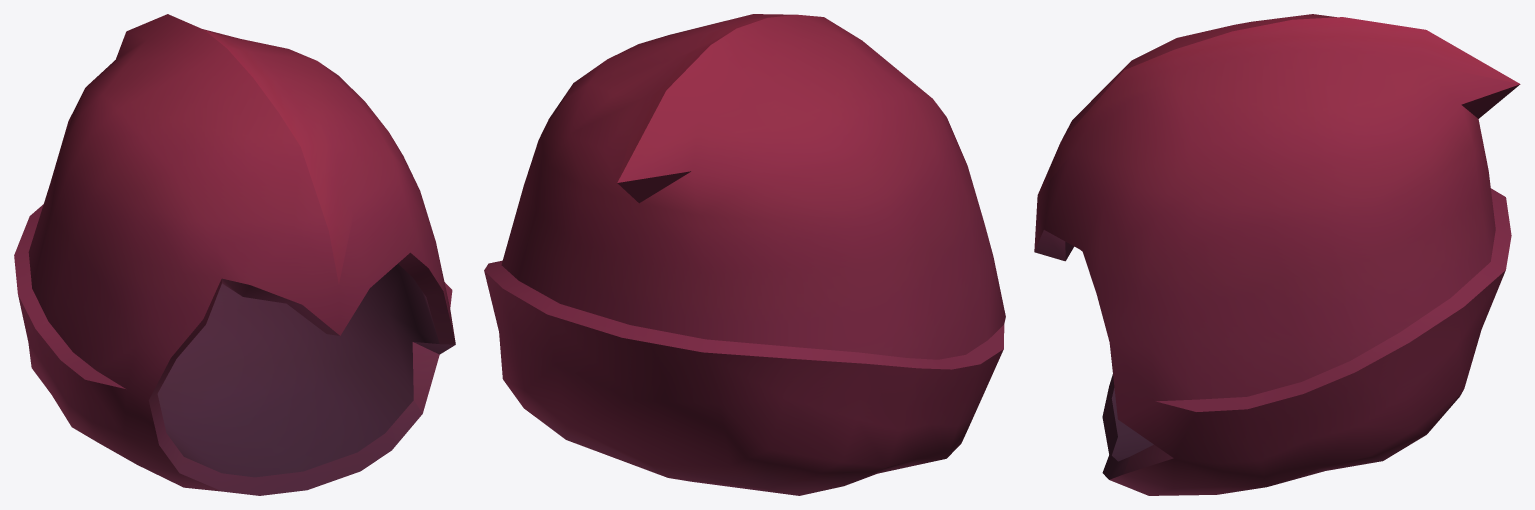
File: hood.glb
3 views of the same model, side by side, from view 1: azimuth 30°, elevation 25°; view 2: azimuth 150°, elevation 25°; view 3: azimuth 270°, elevation 25° (orthographic). The views are drawn at different scales.
Visible parts, largest first — view 1: Skeleton_Rogue_Hood; view 2: Skeleton_Rogue_Hood; view 3: Skeleton_Rogue_Hood.
Part boxes in pixels (x1=…): Skeleton_Rogue_Hood: x1=14, y1=14, x2=455, y2=495; Skeleton_Rogue_Hood: x1=484, y1=14, x2=1005, y2=495; Skeleton_Rogue_Hood: x1=1034, y1=14, x2=1520, y2=495.
Bounding box in the file's own units: 1.16 × 1.16 × 1.15.
Materials: 1 (1 with a texture image).
